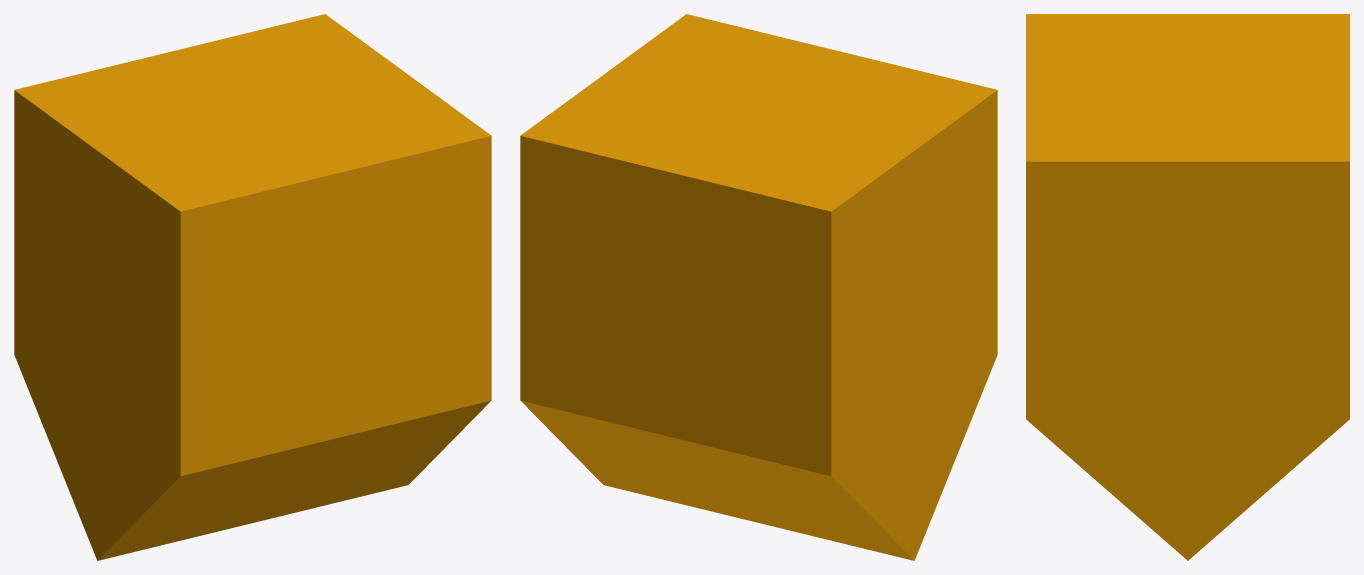
The model's file is Hospital.fbx.
3 renders of one model, left to right at view 1: azimuth 30°, elevation 25°; view 2: azimuth 150°, elevation 25°; view 3: azimuth 270°, elevation 25°, orthographic. The views are drawn at different scales.
Visible parts, largest first — view 1: Cube; view 2: Cube; view 3: Cube.
Part boxes in pixels (<box>): Cube: <box>14,14,491,560</box>; Cube: <box>520,14,997,560</box>; Cube: <box>1026,14,1349,560</box>.
Bounding box in the file's own units: 2138 × 2694 × 1980.
